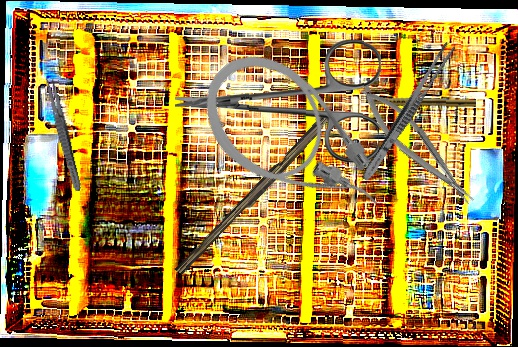Cannula: (180, 31, 404, 255)
Dressing Forceps: (358, 40, 457, 184), (41, 74, 85, 193)
Handpiece: (357, 94, 477, 108)
Iris Scissors: (173, 35, 382, 164)
Needle Holder: (353, 77, 480, 216)
Scalpel Handle: (174, 110, 335, 280)
